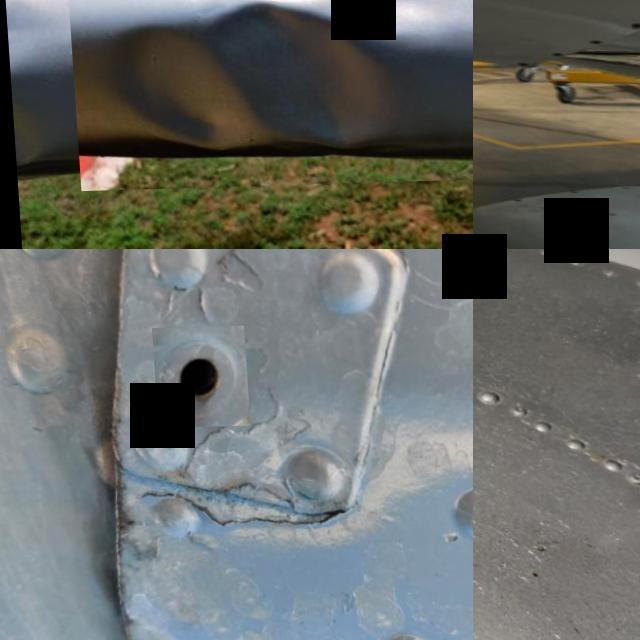Dent: (61, 0, 473, 191), (5, 56, 86, 184)
Missing_Fastener: (150, 328, 246, 430), (504, 64, 525, 72), (581, 40, 595, 51), (542, 55, 556, 62), (626, 25, 638, 33)
